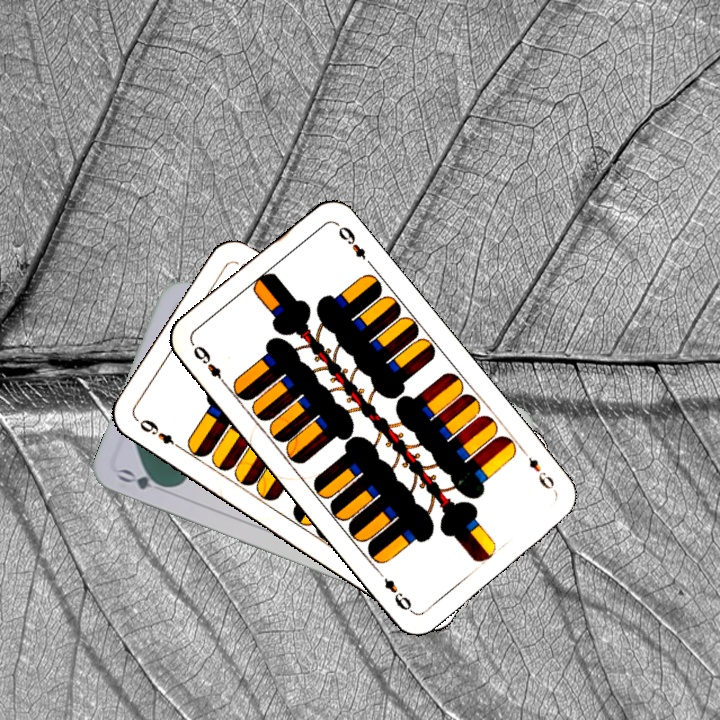E9: (189, 341, 231, 389), (135, 415, 186, 453), (523, 453, 559, 495)
GO: (114, 464, 174, 494)
